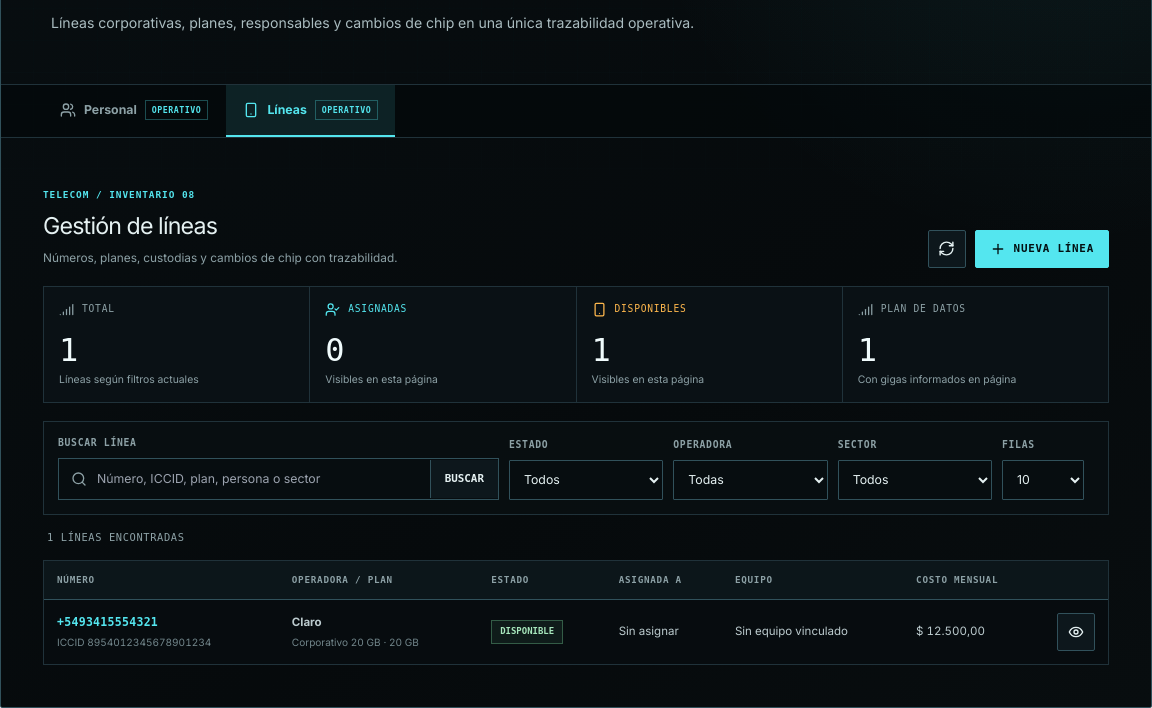
Scenario: ItStaffPage › asigna una línea a un sector sin persona
(page scrolled)
Click the button named "Ver línea +5493415554321": (1076, 632) [1057,613,1095,651]
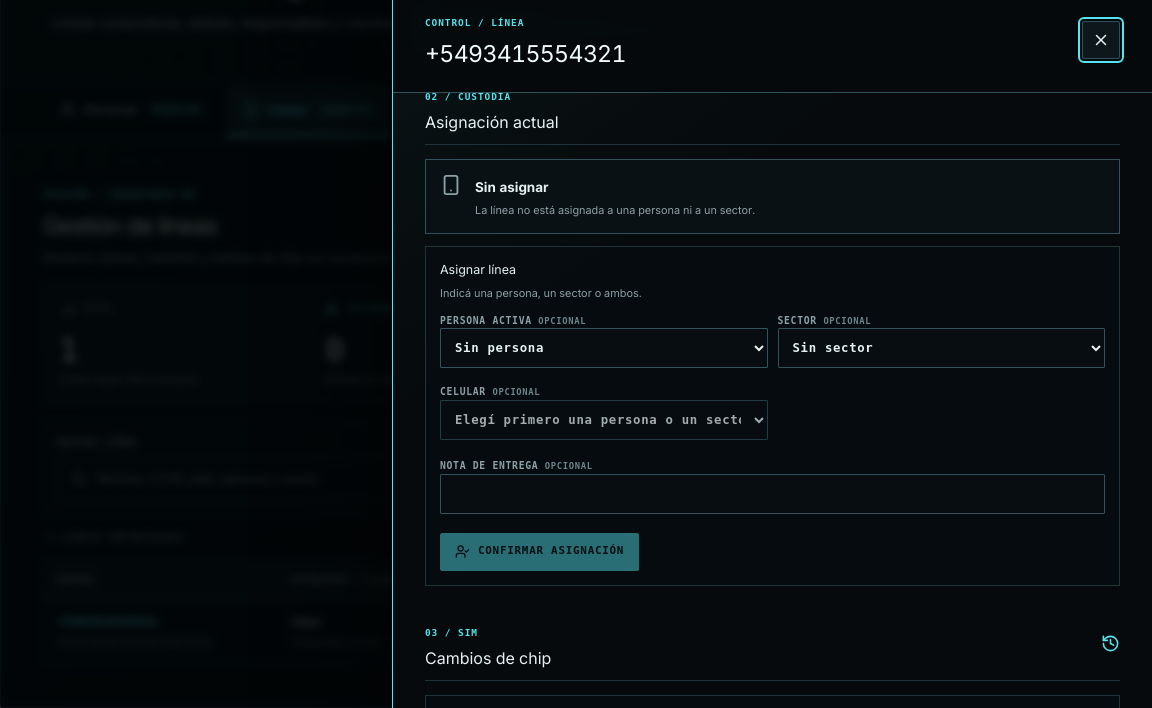
Now the button "Confirmar asignación" is disabled, box [440,533,639,571]
Now the text "Indicá una persona, un sector o ambos." is shown, box [440,286,642,300]
Select "Tecnología" in the dropdown labelled "Sector Opcional": (941, 348) [778,328,1105,368]
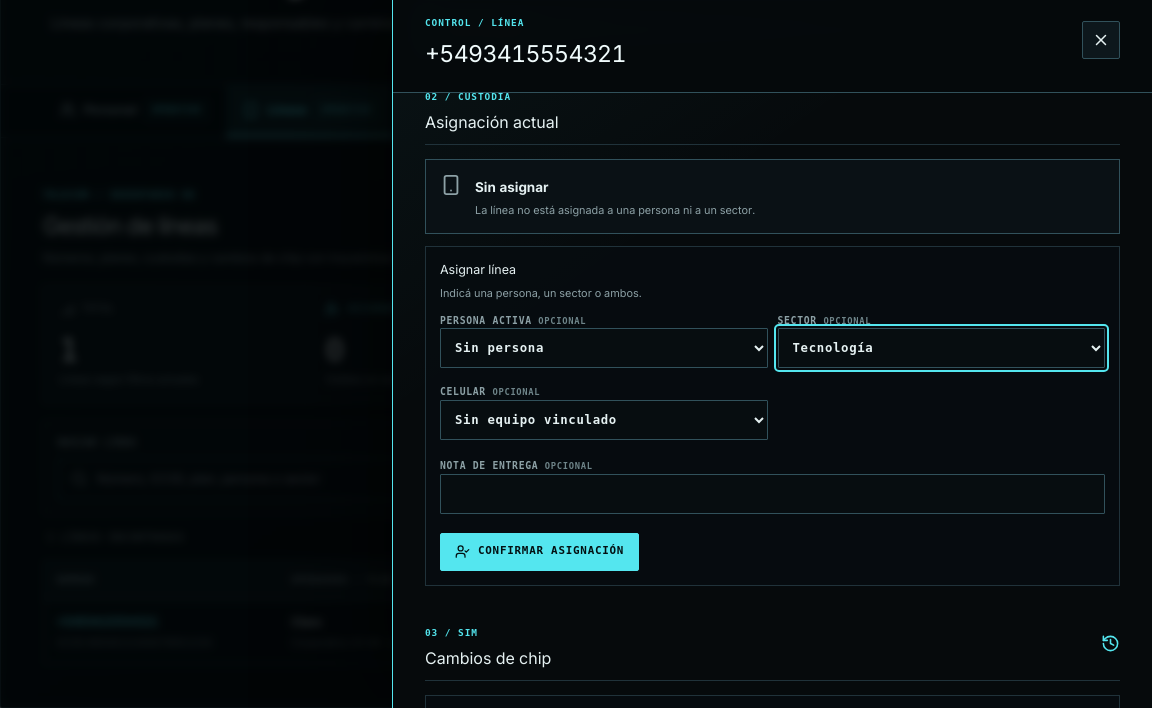
Now the button "Confirmar asignación" is enabled
Click the button "Confirmar asignación": (540, 552) [440,533,639,571]
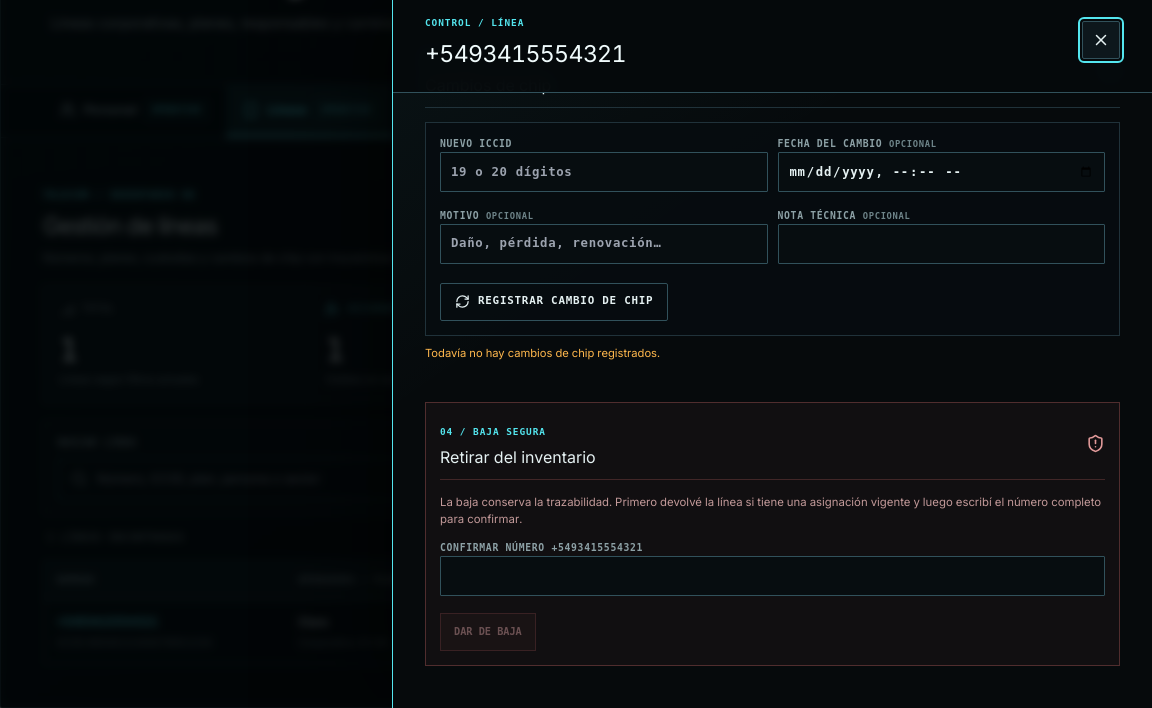
Now the button "Dar de baja" is disabled, box [440,613,536,651]
